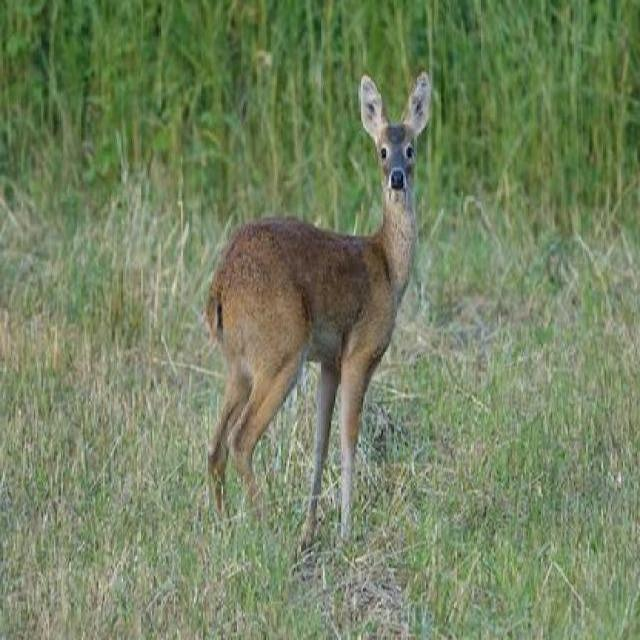deer: (188, 53, 444, 566)
